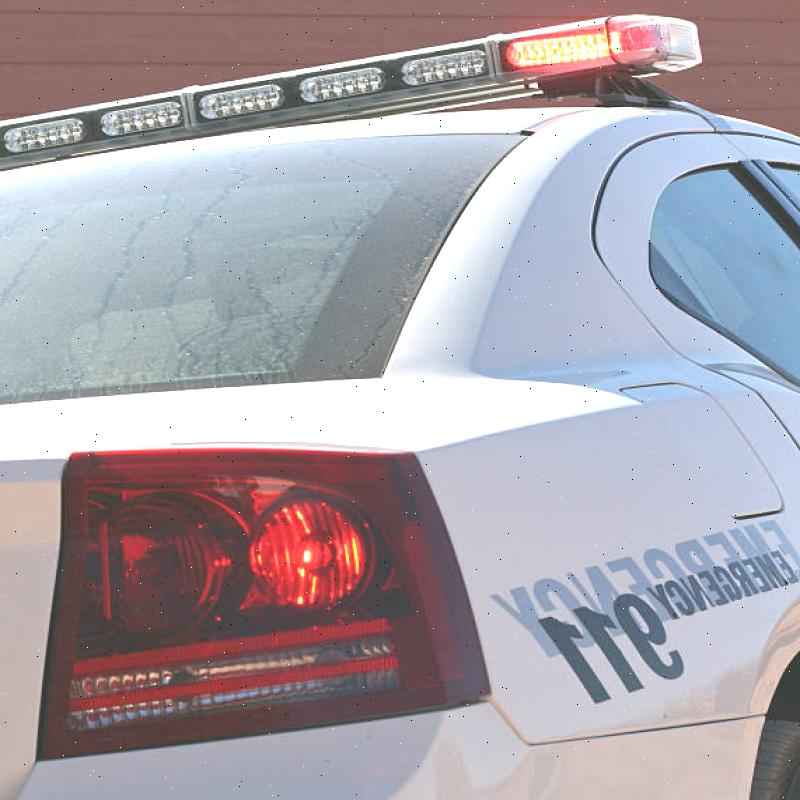AmbulanceSiren: (0, 4, 706, 197)
